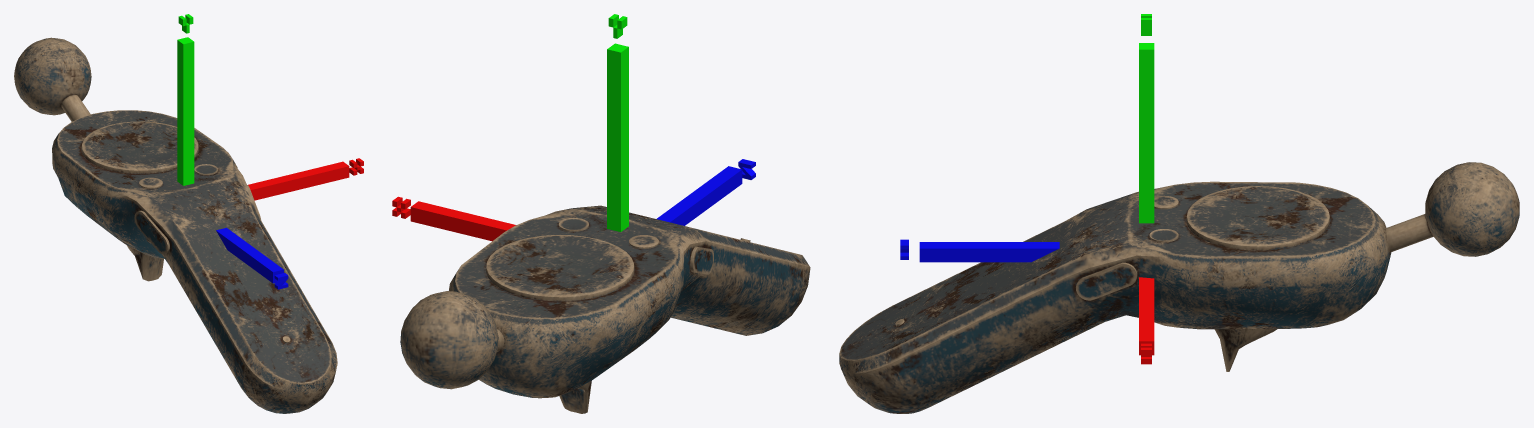
File: controller.obj
3 views of the same model, side by side, from view 1: azimuth 30°, elevation 25°; view 2: azimuth 150°, elevation 25°; view 3: azimuth 270°, elevation 25° (orthographic). The views are drawn at different scales.
Visible parts, largest first — view 1: g_032Default_Tethered6DOFController, Default; view 2: g_032Default_Tethered6DOFController, Default; view 3: g_032Default_Tethered6DOFController, Default.
Part boxes in pixels (x1=…): g_032Default_Tethered6DOFController: x1=14, y1=37, x2=337, y2=413; Default: x1=177, y1=14, x2=363, y2=289; g_032Default_Tethered6DOFController: x1=400, y1=205, x2=810, y2=413; Default: x1=392, y1=14, x2=755, y2=241; g_032Default_Tethered6DOFController: x1=839, y1=162, x2=1519, y2=413; Default: x1=900, y1=14, x2=1154, y2=364.
Size of the model in its own units: 0.0786 by 0.0984 by 0.155.
5 materials, 1 textured.
